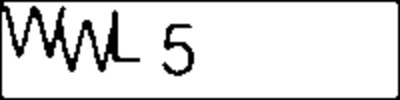5: (158, 19, 196, 80)
L: (109, 7, 144, 66)
W: (2, 3, 69, 59), (56, 19, 116, 75)
